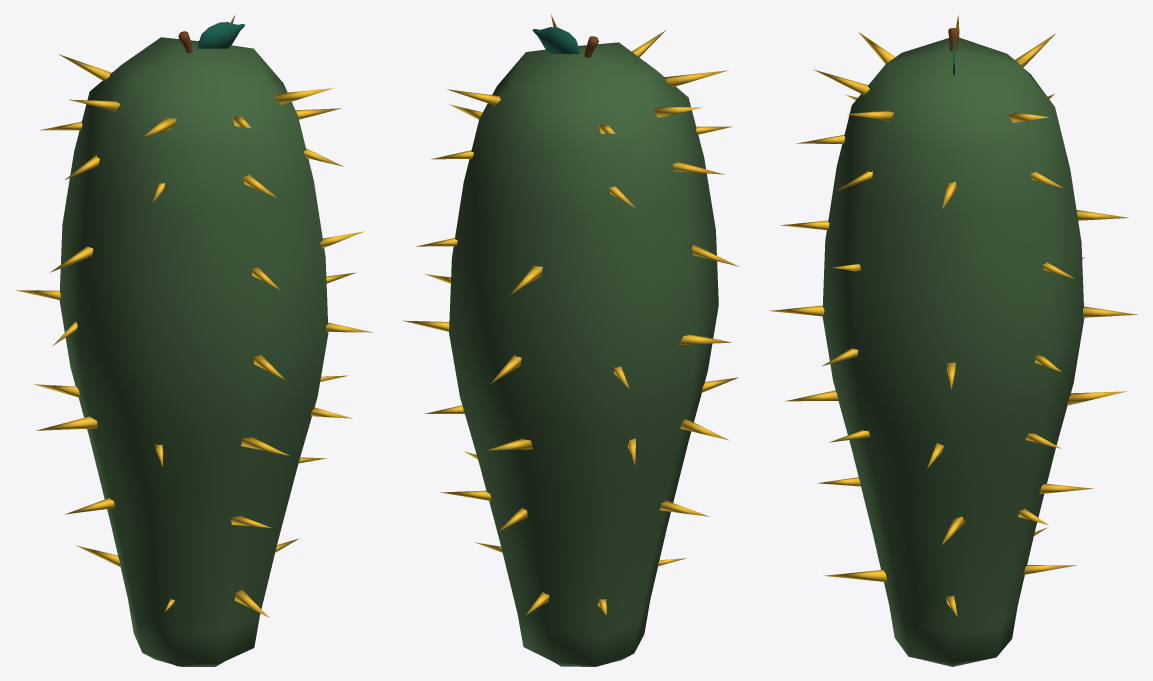
The model's file is Tree-Apple-no1.gltf.
3 views of the same model, side by side, from view 1: azimuth 30°, elevation 25°; view 2: azimuth 150°, elevation 25°; view 3: azimuth 270°, elevation 25° (orthographic).
Visible parts, largest first — view 1: Tree-Cactus-no1; view 2: Tree-Cactus-no1; view 3: Tree-Cactus-no1.
Part boxes in pixels (x1=…): Tree-Cactus-no1: x1=16, y1=14, x2=372, y2=666; Tree-Cactus-no1: x1=402, y1=14, x2=738, y2=666; Tree-Cactus-no1: x1=769, y1=15, x2=1137, y2=666.
Size of the model in its own units: 0.5497 by 1.04 by 0.5629.
1 material, 1 textured.
